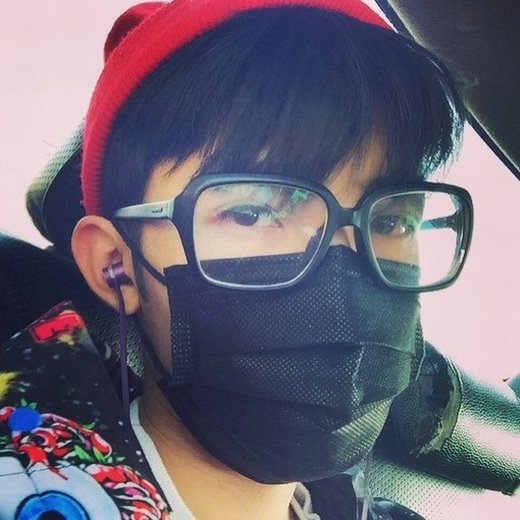face_mask: (153, 92, 430, 446)
